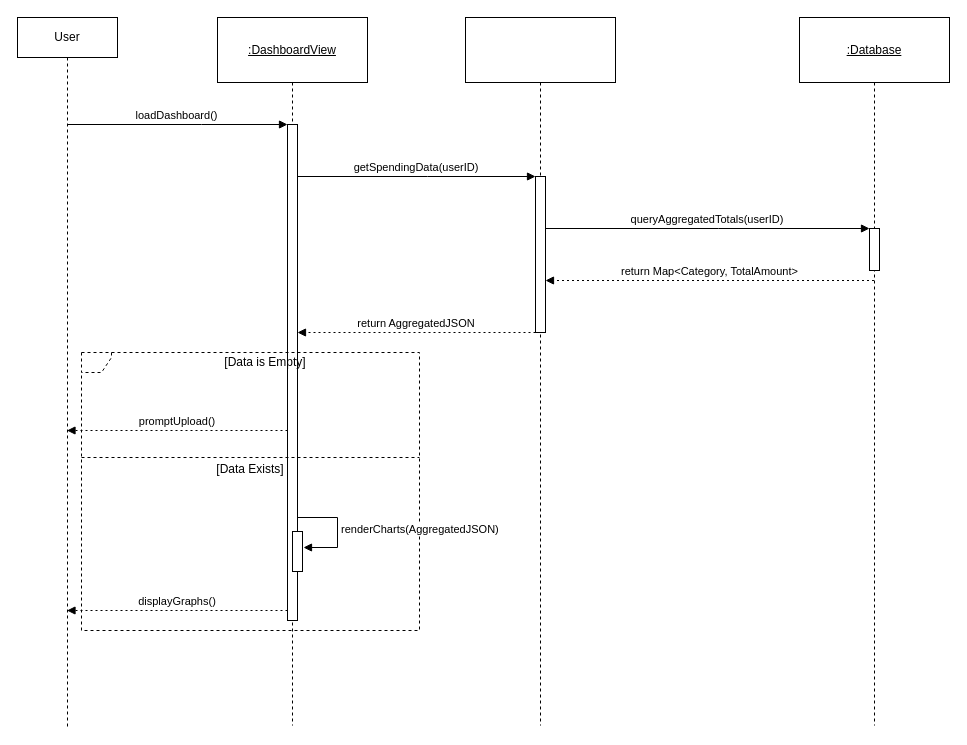
Image size: 967x745. Some labels were removed from this diagram. Here are the shapes that lost their labels. From the top down, the box of each, then its label:
(464, 16, 616, 726): :AnalyticsService
(80, 352, 420, 630): alt
